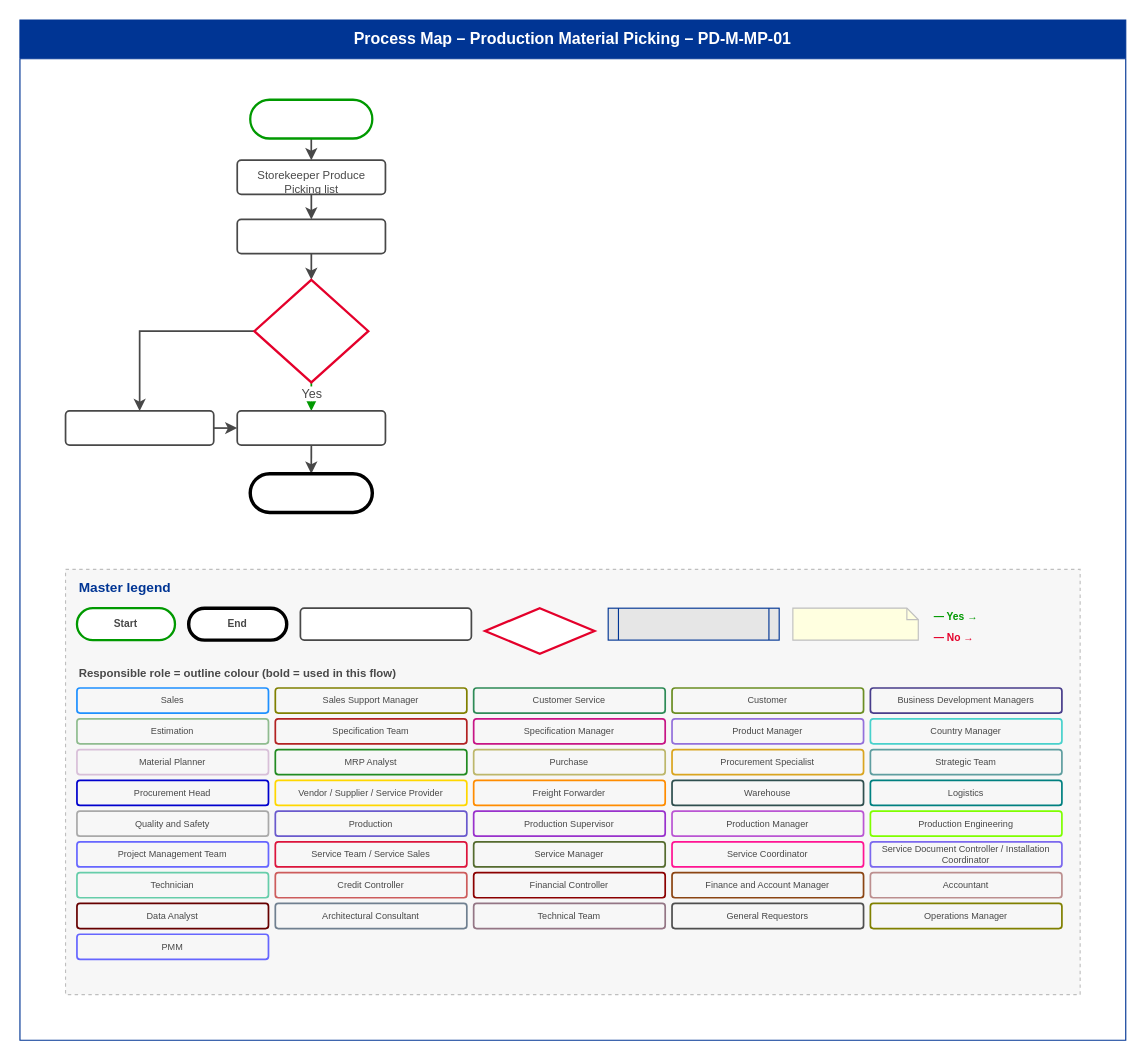
Some shapes in this 1146 by 1060 pixel diagram are drawn without their labels. Here are the shapes that lost their labels. From the top down, the centre of each, then its label:
[311,118]: Start Process
[311,236]: Pick & Pack as per picking list
[311,330]: For Assembly ?
[139,428]: Pack the material for delivery
[311,428]: Endorse to production
[310,492]: Complete
[385,623]: Activity (outline = role)
[539,630]: Decision
[693,623]: Linked process (Ref ID)
[855,623]: Note / checklist
